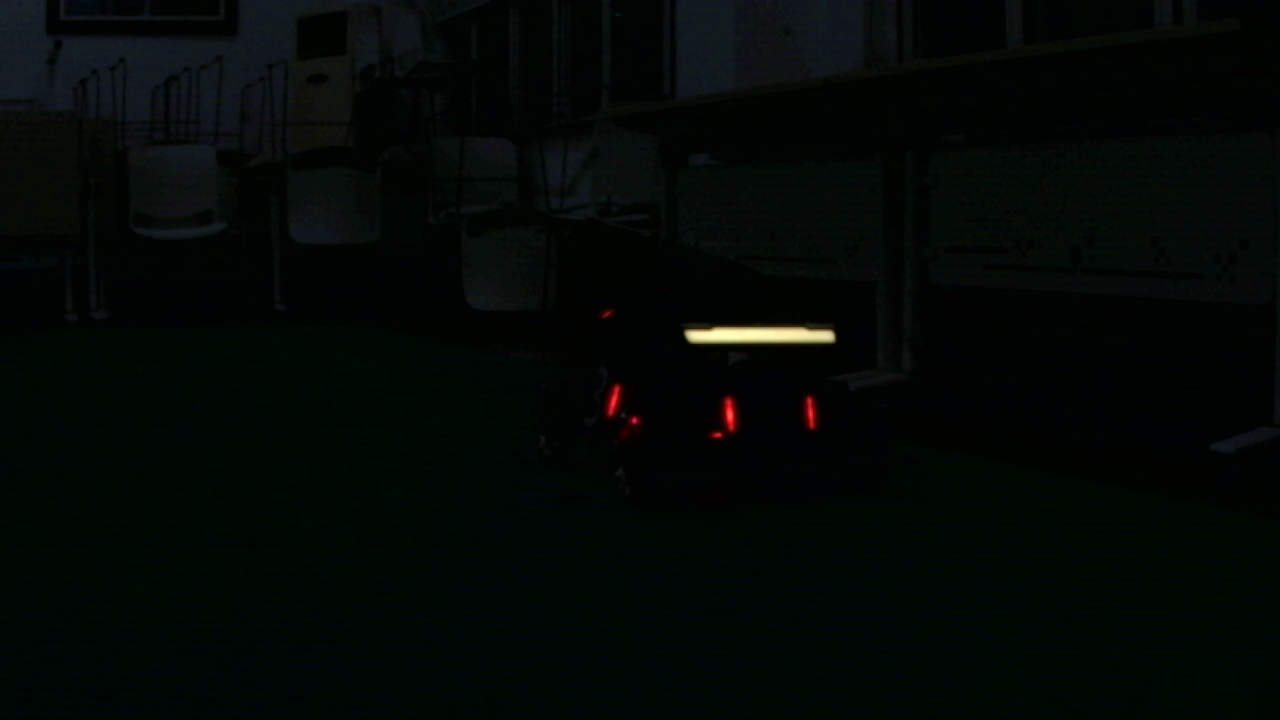lamp: (722, 394, 740, 433), (797, 393, 817, 428), (604, 379, 620, 419)
pair1: (723, 394, 817, 430)
